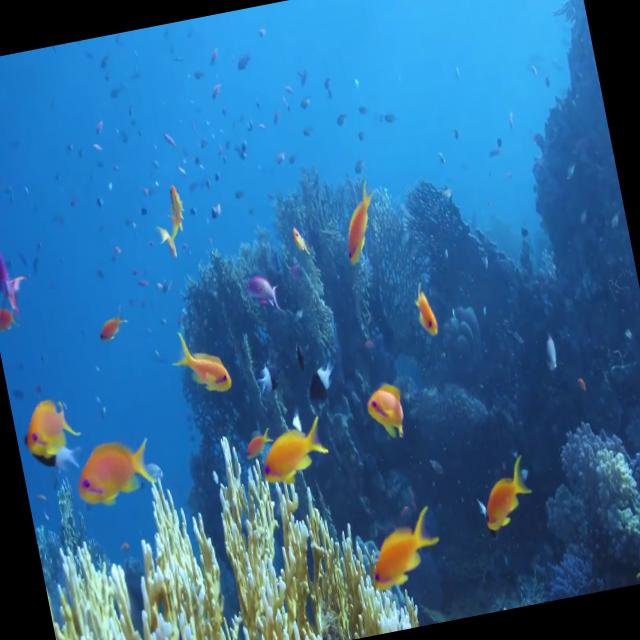fish: (361, 510, 442, 592), (257, 423, 342, 492), (473, 452, 540, 538), (77, 436, 159, 504), (18, 394, 86, 468), (330, 178, 382, 267), (170, 323, 231, 396), (359, 378, 416, 443), (408, 288, 442, 352)
